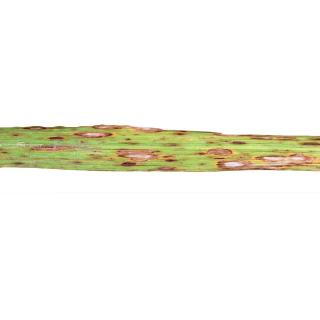Blast: (257, 148, 312, 170), (109, 142, 156, 162), (97, 122, 182, 132), (216, 156, 250, 171), (74, 124, 98, 140)
